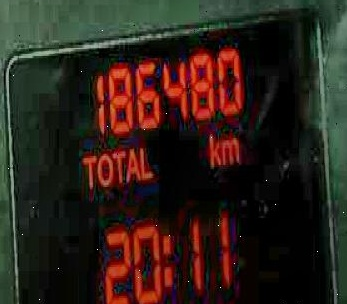0: (131, 220, 161, 302), (216, 44, 241, 113)
1: (188, 213, 204, 289), (215, 209, 230, 284), (91, 69, 105, 135)
2: (102, 225, 130, 304)
4: (161, 58, 186, 118)
6: (134, 58, 160, 129)
8: (187, 51, 215, 118), (106, 64, 133, 131)
X: (161, 229, 172, 289), (79, 149, 96, 187), (220, 136, 240, 165), (139, 142, 154, 180), (206, 127, 220, 167), (124, 147, 140, 182), (96, 151, 112, 184), (111, 147, 124, 182)
